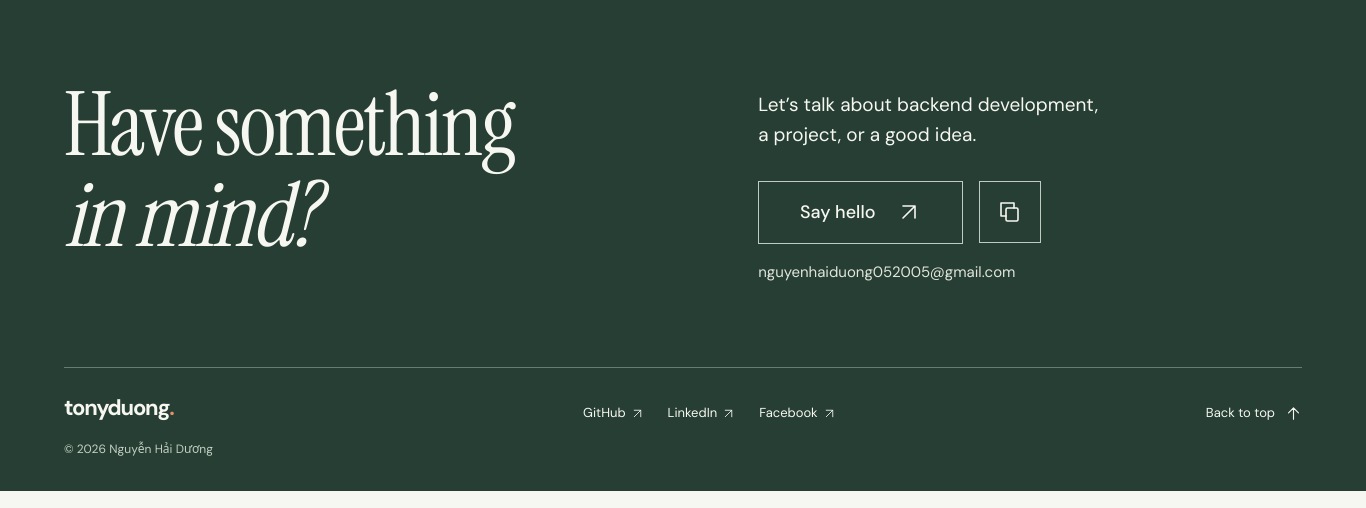
Email clipboard › offers a usable fallback when the clipboard is blocked
Click the button named "Copy email address" at (1010, 212), box [979,181,1041,243]
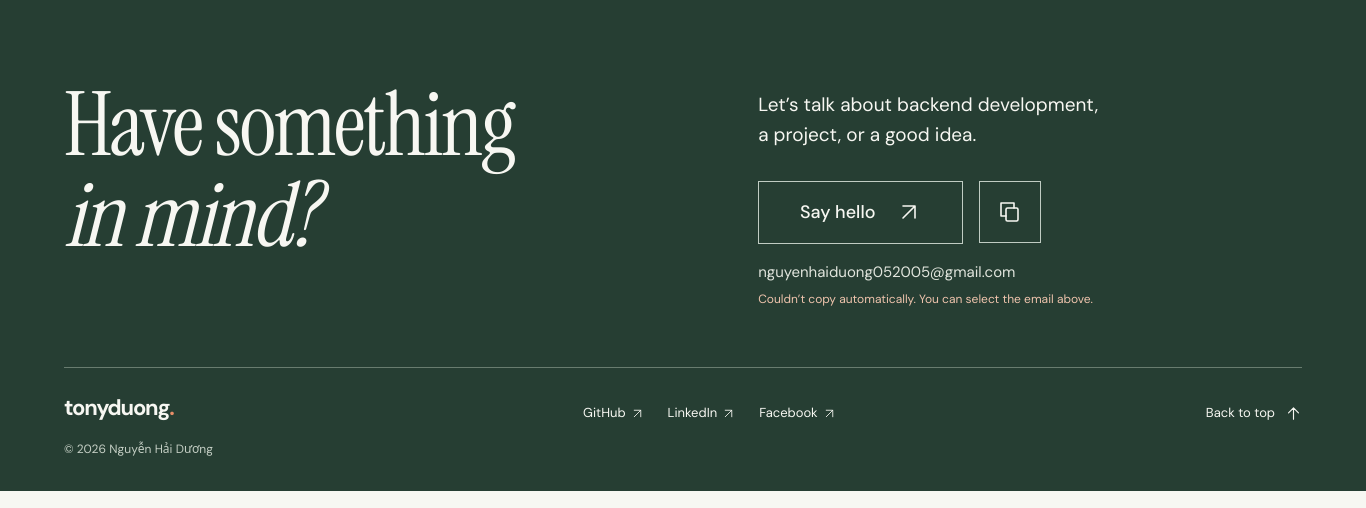
Check: the message shows "You can select the email above.", box [758,291,1093,307]
